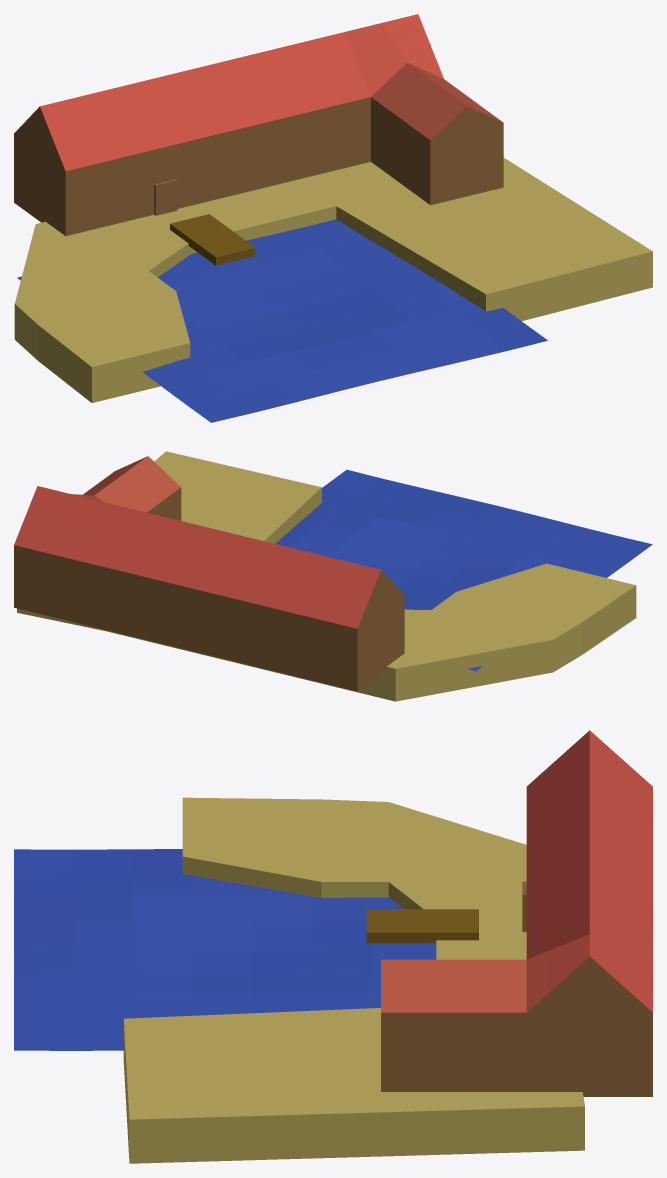
File: house_on_a_lake.fbx
The picture shows the model from 3 angles, top to bottom: view 1: azimuth 30°, elevation 25°; view 2: azimuth 150°, elevation 25°; view 3: azimuth 270°, elevation 25°; orthographic projection. The views are drawn at different scales.
Parts seen in each view (by area): view 1: Cube.001, Beach, Water, Cube; view 2: Cube.001, Beach, Water; view 3: Beach, Cube.001, Water, Cube.
Part boxes in pixels (box(x1,y1,x2,y2)): Cube.001: box(14, 14, 503, 236); Beach: box(14, 158, 652, 402); Water: box(17, 219, 547, 422); Cube: box(170, 214, 255, 265); Cube.001: box(14, 456, 404, 691); Beach: box(17, 451, 636, 701); Water: box(275, 469, 652, 671); Beach: box(123, 797, 584, 1163); Cube.001: box(381, 730, 652, 1096); Water: box(14, 849, 436, 1050); Cube: box(366, 909, 478, 943).
Size of the model in its own units: 1095 by 285 by 919.
